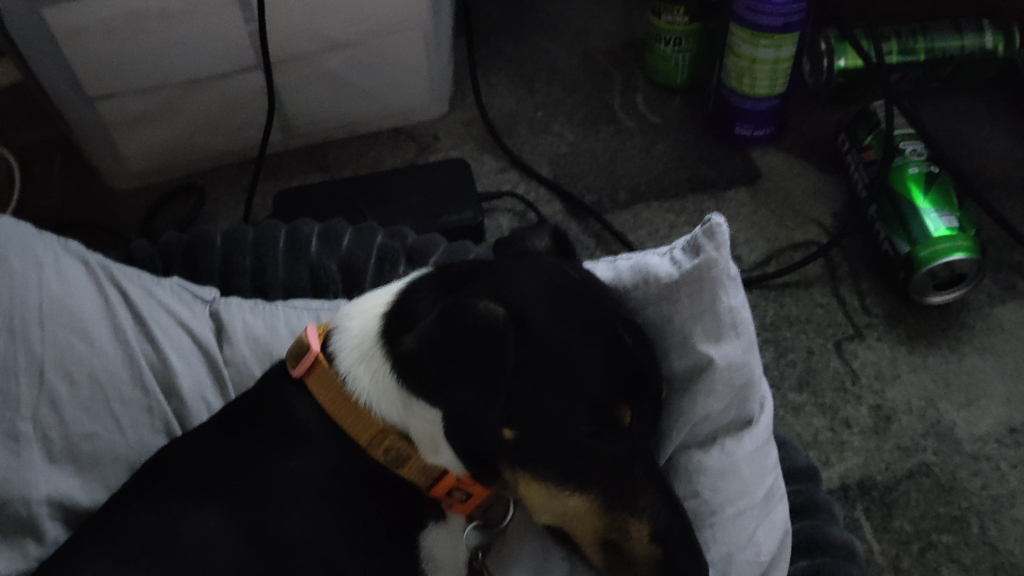Dog: (15, 203, 727, 576)
